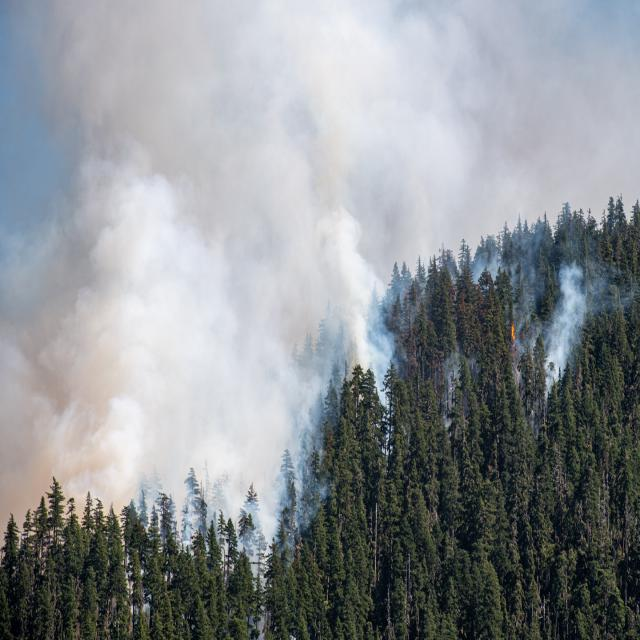smoke: (0, 0, 536, 583), (534, 256, 600, 395)
